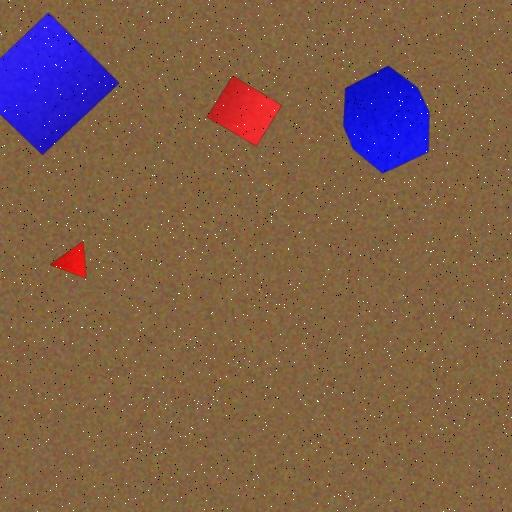BLUE_SQUARE: (0, 11, 120, 156)
RED_SQUARE: (206, 75, 282, 147)
